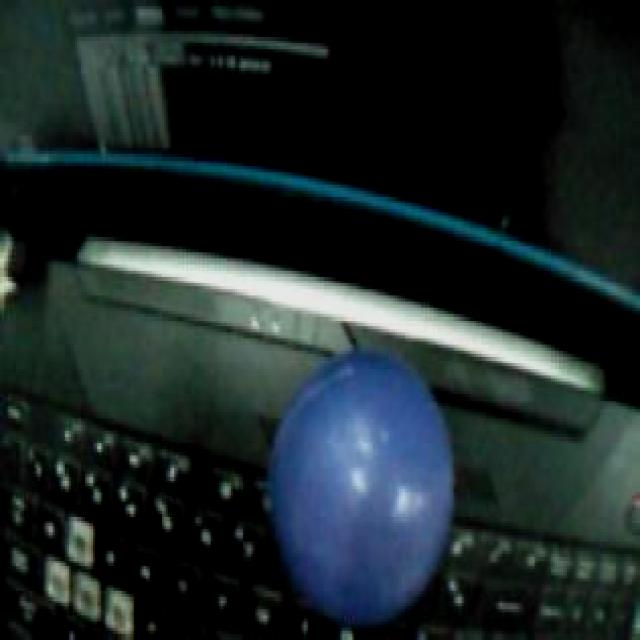BallPurple: (269, 352, 454, 628)
